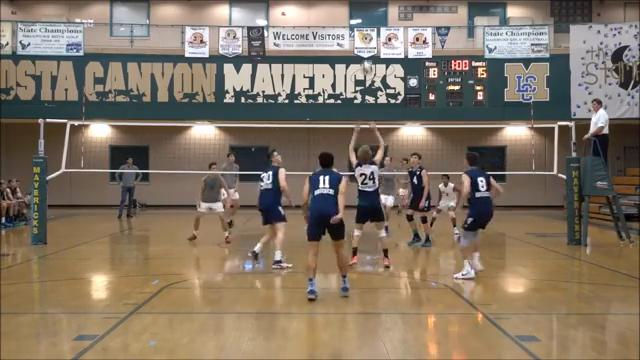Player: (303, 152, 348, 300), (454, 152, 502, 278), (349, 123, 389, 267), (250, 150, 291, 268), (188, 173, 230, 242), (406, 152, 431, 246), (430, 174, 459, 236), (221, 152, 239, 228), (380, 174, 398, 235), (397, 176, 408, 214)
Receive: (345, 118, 394, 267)
ball: (362, 61, 375, 74)
